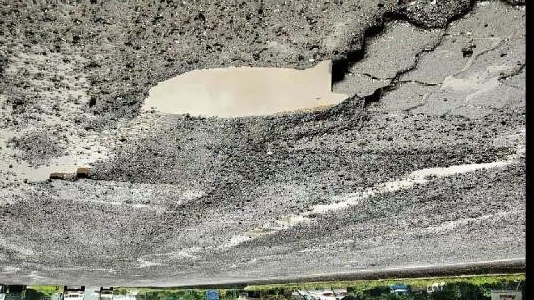pothole: (136, 55, 391, 126)
